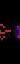eye: (0, 22, 10, 42), (11, 22, 20, 42)
